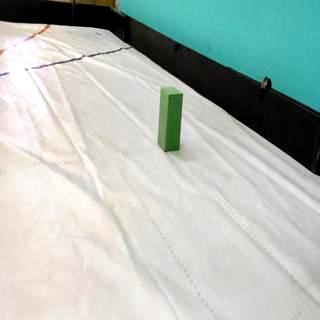greenbox: (156, 84, 184, 154)
